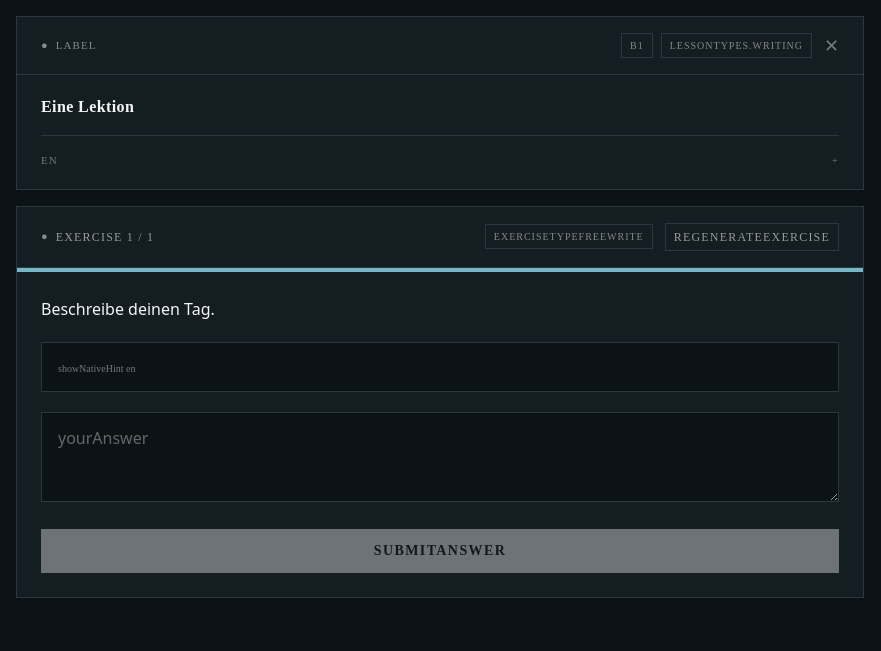
Test: LessonPage lesson loading and answer flow › shows submit failure and allows the learner to retry the answer
The image size is (881, 651).
Type "Ich lerne Deutsch." into the text box with placeholder "yourAnswer" at (440, 456), box [41,412,839,502]
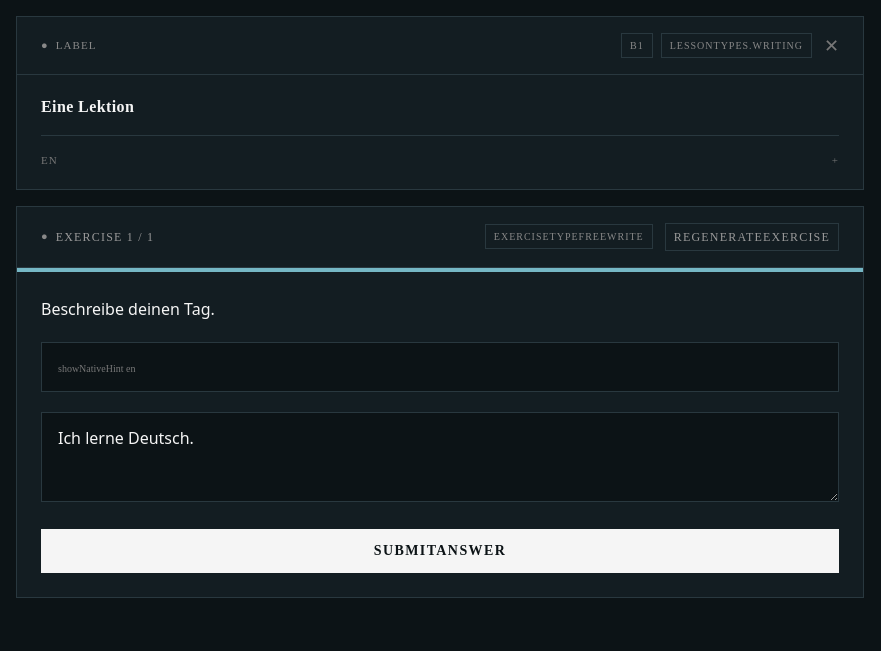
Expected: the button "submitAnswer" is enabled
Click the button "submitAnswer" at (440, 550), box [41,528,839,572]
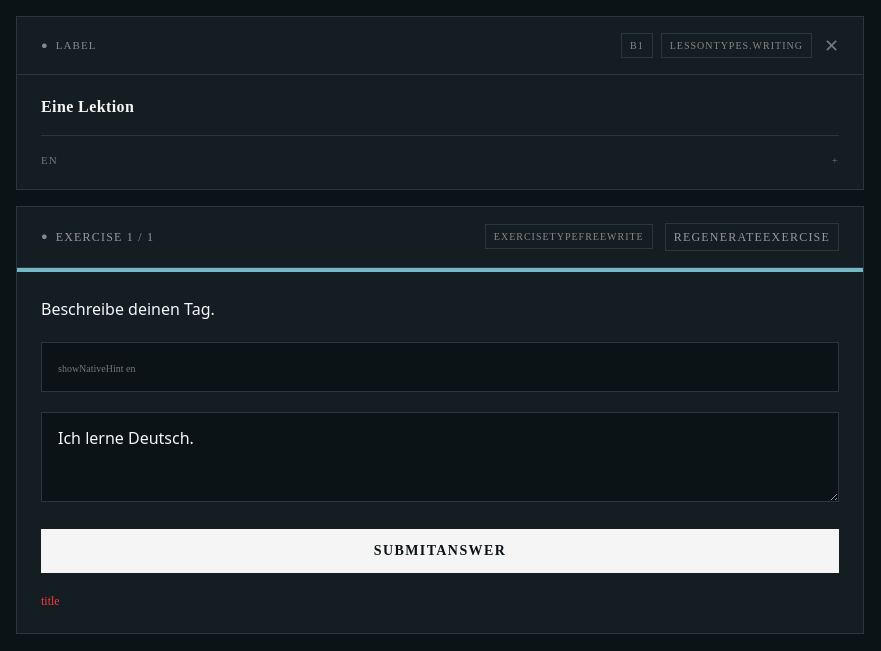
Expected: the text "title" is shown, [41,594,60,608]
Click the button "submitAnswer" at (440, 550), box [41,528,839,572]
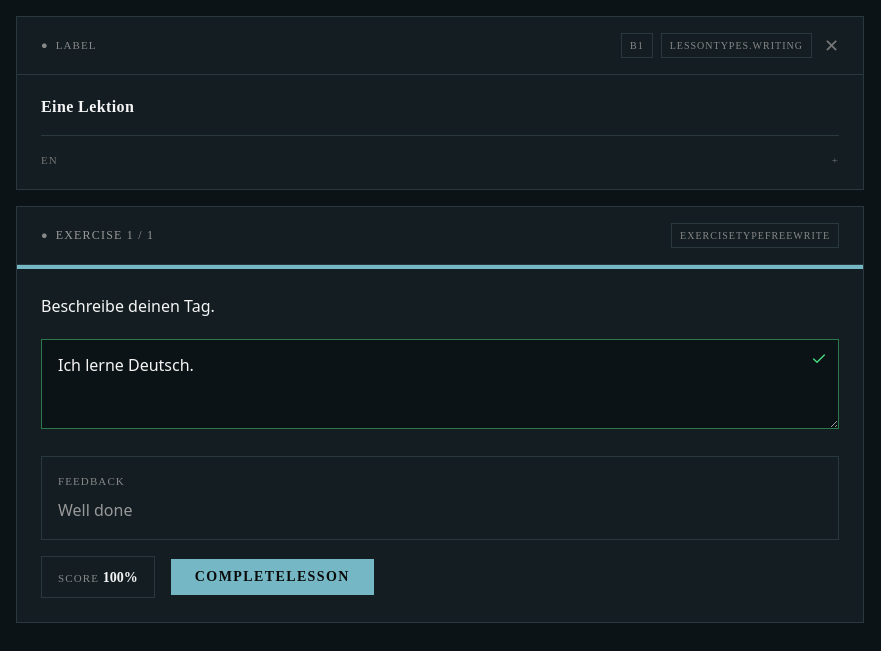
Expected: the text "Well done" is shown, [58,499,132,521]
Expected: the text "title" is gone
